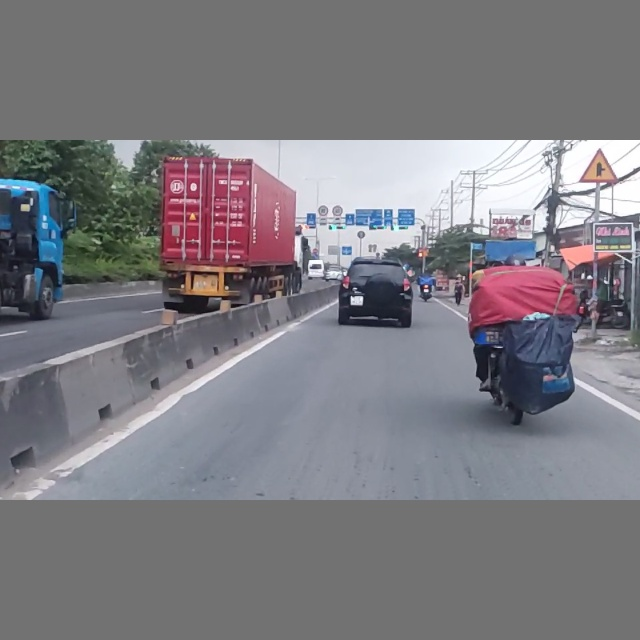P.127*60: (331, 204, 344, 218)
P.127*80: (319, 205, 329, 216)
W.207: (579, 146, 618, 184)
